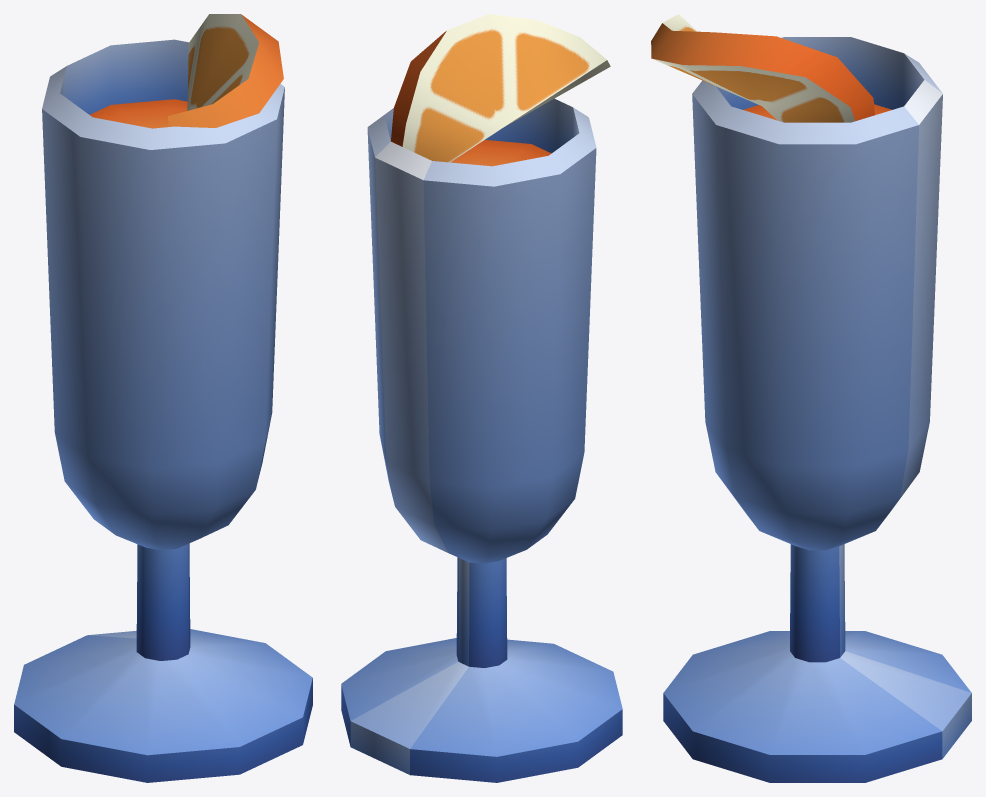
Rendered from m_Mimosa01.fbx.
3 views of the same model, side by side, from view 1: azimuth 30°, elevation 25°; view 2: azimuth 150°, elevation 25°; view 3: azimuth 270°, elevation 25° (orthographic). The views are drawn at different scales.
Parts seen in each view (by area): view 1: m_Mimosa01; view 2: m_Mimosa01; view 3: m_Mimosa01.
Part boxes in pixels (bbox=[...]): m_Mimosa01: bbox=[14, 14, 312, 782]; m_Mimosa01: bbox=[341, 14, 622, 782]; m_Mimosa01: bbox=[651, 14, 971, 782].
Bounding box in the file's own units: 9.51 × 25.49 × 10.4.
